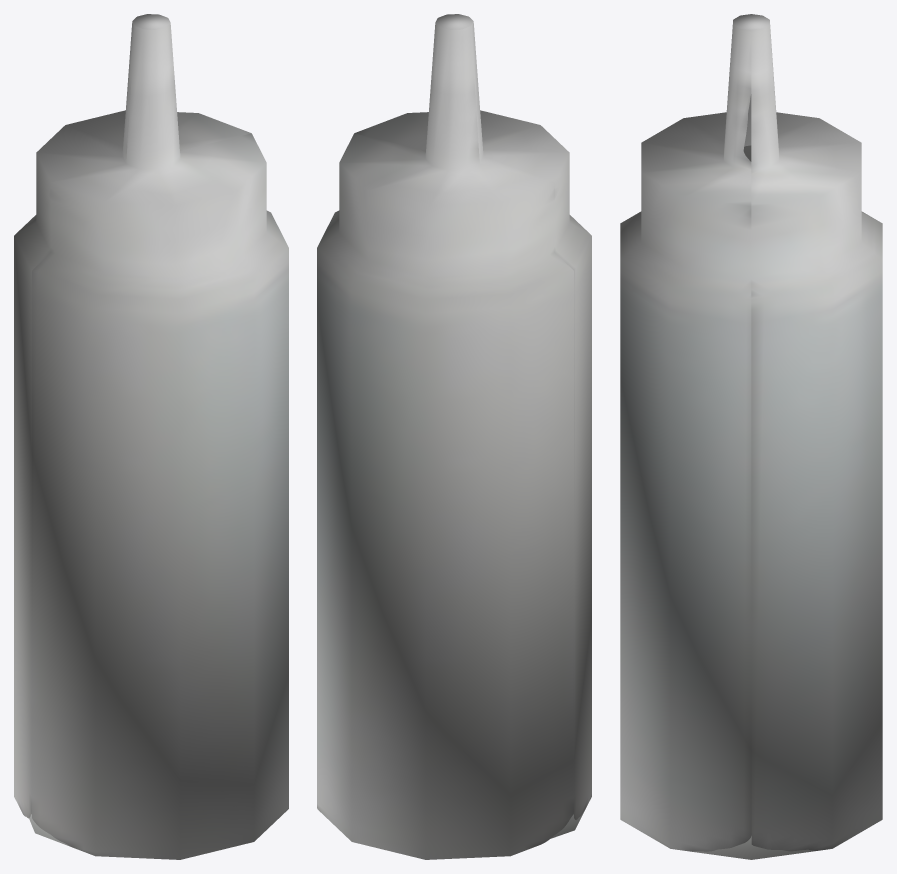
The model's file is vinegar_bottle.FBX.
3 renders of one model, left to right at view 1: azimuth 30°, elevation 25°; view 2: azimuth 150°, elevation 25°; view 3: azimuth 270°, elevation 25°, orthographic.
Visible parts, largest first — view 1: vinegar_bottle; view 2: vinegar_bottle; view 3: vinegar_bottle.
Part boxes in pixels (x1,y1,x2,y2): vinegar_bottle: [14, 14, 288, 859]; vinegar_bottle: [317, 14, 591, 859]; vinegar_bottle: [620, 14, 882, 859].
Size of the model in its own units: 26.69 by 83.25 by 25.38.
